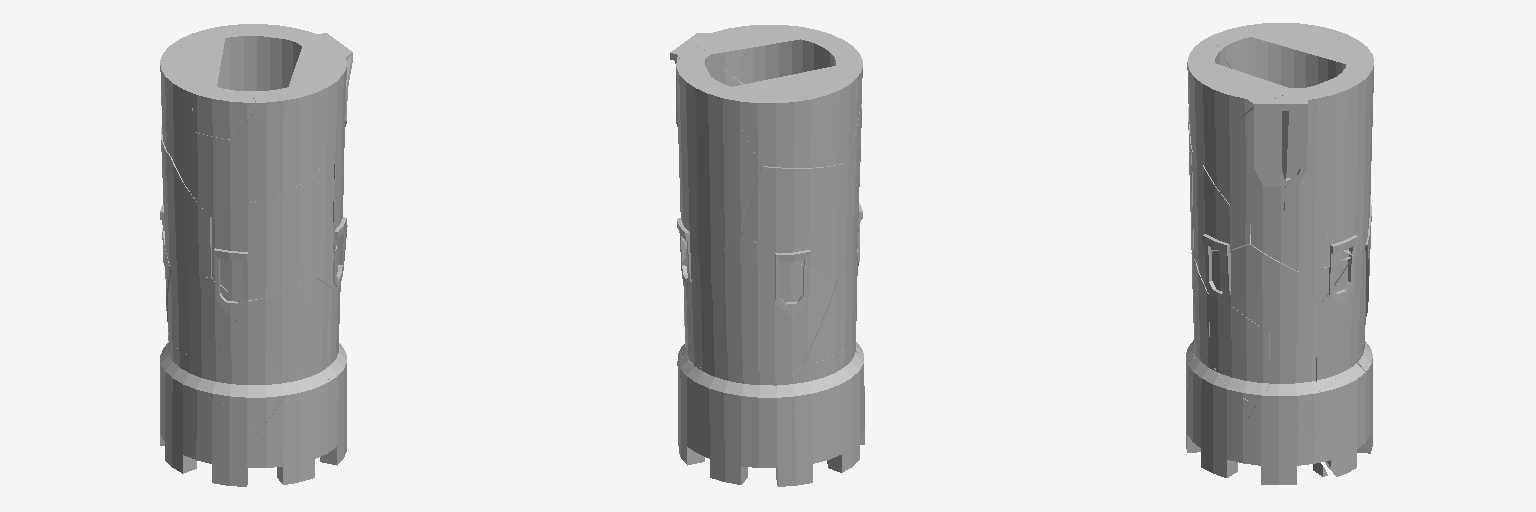
The model's file is destruction_tower_000006.obj.
3 views of the same model, side by side, from view 1: azimuth 30°, elevation 25°; view 2: azimuth 150°, elevation 25°; view 3: azimuth 270°, elevation 25° (orthographic).
Parts seen in each view (by area): view 1: tower.001_cell.024_Mesh.024, tower.001_cell.028_Mesh.028, tower.001_cell.021_Mesh.021, tower.001_cell.006_Mesh.006, tower.001_cell.011_Mesh.011, tower.001_cell.013_Mesh.013, tower.001_cell.002_Mesh.002, tower.001_cell.015_Mesh.015, tower.001_cell.009_Mesh.009, tower.001_cell.017_Mesh.017, tower.001_cell.003_Mesh.003, tower.001_cell.014_Mesh.014 (+9 smaller); view 2: tower.001_cell.025_Mesh.025, tower.001_cell.017_Mesh.017, tower.001_cell.007_Mesh.007, tower.001_cell.015_Mesh.015, tower.001_cell.003_Mesh.003, tower.001_cell.028_Mesh.028, tower.001_cell.005_Mesh.005, tower.001_cell.012_Mesh.012, tower.001_cell.009_Mesh.009, tower.001_cell.029_Mesh.029, tower.001_cell.006_Mesh.006, tower.001_cell.026_Mesh.026 (+2 smaller); view 3: tower.001_cell.017_Mesh.017, tower.001_cell.020_Mesh.020, tower.001_cell.015_Mesh.015, tower.001_cell.028_Mesh.028, tower.001_cell.030_Mesh.030, tower.001_cell.029_Mesh.029, tower.001_cell_Mesh, tower.001_cell.012_Mesh.012, tower.001_cell.016_Mesh.016, tower.001_cell.026_Mesh.026, tower.001_cell.023_Mesh.023, tower.001_cell.027_Mesh.027 (+8 smaller).
Boxes of the visible parts, <box> form: tower.001_cell.024_Mesh.024: <box>212,174,316,301</box>; tower.001_cell.028_Mesh.028: <box>249,46,352,170</box>; tower.001_cell.021_Mesh.021: <box>236,279,332,384</box>; tower.001_cell.006_Mesh.006: <box>164,389,255,486</box>; tower.001_cell.011_Mesh.011: <box>256,374,329,484</box>; tower.001_cell.013_Mesh.013: <box>206,320,290,433</box>; tower.001_cell.002_Mesh.002: <box>230,110,317,205</box>; tower.001_cell.015_Mesh.015: <box>160,30,224,156</box>; tower.001_cell.009_Mesh.009: <box>168,270,236,362</box>; tower.001_cell.017_Mesh.017: <box>205,24,311,90</box>; tower.001_cell.003_Mesh.003: <box>160,127,211,277</box>; tower.001_cell.014_Mesh.014: <box>172,131,229,216</box>; tower.001_cell.025_Mesh.025: <box>706,235,836,381</box>; tower.001_cell.017_Mesh.017: <box>676,58,762,262</box>; tower.001_cell.007_Mesh.007: <box>697,355,814,486</box>; tower.001_cell.015_Mesh.015: <box>727,66,860,167</box>; tower.001_cell.003_Mesh.003: <box>742,163,858,279</box>; tower.001_cell.028_Mesh.028: <box>696,25,847,84</box>; tower.001_cell.005_Mesh.005: <box>784,337,863,462</box>; tower.001_cell.012_Mesh.012: <box>680,254,732,367</box>; tower.001_cell.009_Mesh.009: <box>801,245,859,365</box>; tower.001_cell.029_Mesh.029: <box>677,355,701,465</box>; tower.001_cell.006_Mesh.006: <box>827,355,864,472</box>; tower.001_cell.026_Mesh.026: <box>670,46,720,126</box>; tower.001_cell.017_Mesh.017: <box>1315,61,1373,256</box>; tower.001_cell.020_Mesh.020: <box>1201,97,1288,225</box>; tower.001_cell.015_Mesh.015: <box>1251,23,1373,87</box>; tower.001_cell.028_Mesh.028: <box>1187,44,1290,155</box>; tower.001_cell.030_Mesh.030: <box>1211,404,1326,484</box>; tower.001_cell.029_Mesh.029: <box>1297,361,1365,476</box>; tower.001_cell_Mesh: <box>1209,295,1269,404</box>; tower.001_cell.012_Mesh.012: <box>1317,247,1365,388</box>; tower.001_cell.016_Mesh.016: <box>1266,307,1320,409</box>; tower.001_cell.026_Mesh.026: <box>1281,86,1314,226</box>; tower.001_cell.023_Mesh.023: <box>1195,364,1256,471</box>; tower.001_cell.027_Mesh.027: <box>1228,257,1353,331</box>.
Size of the model in its own units: 44.42 by 97.32 by 43.19.